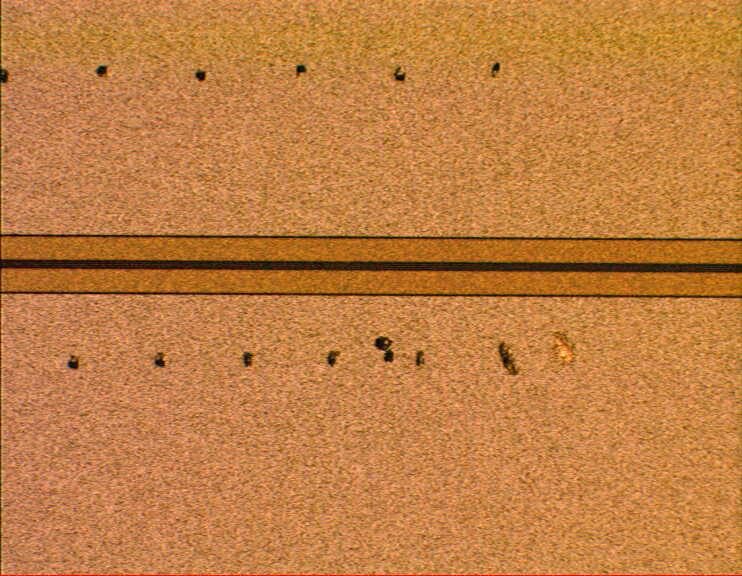SCRATCH: (367, 333, 584, 366)
